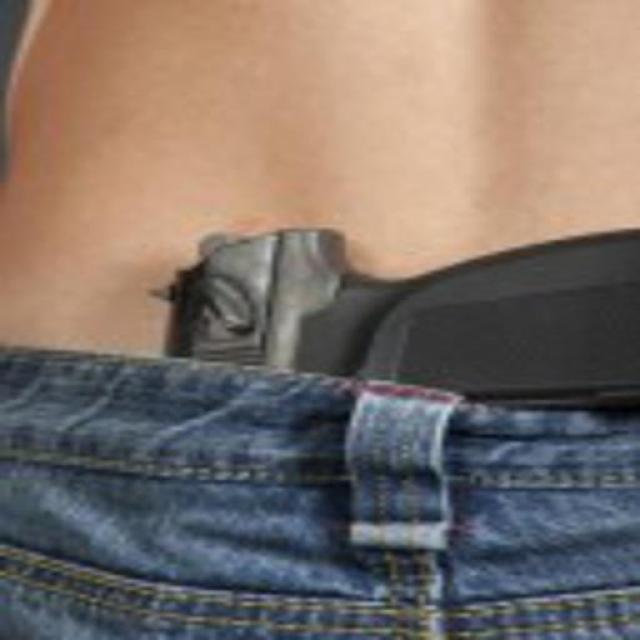pistol: (141, 212, 640, 422)
